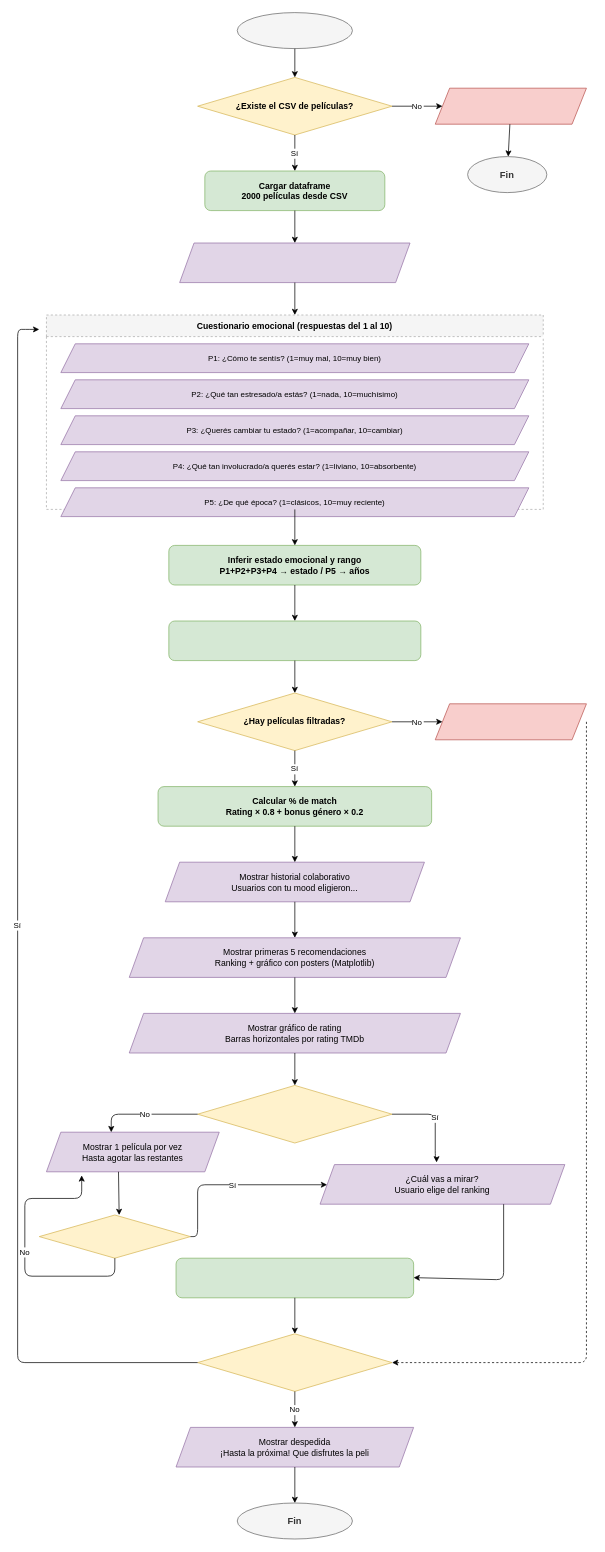
This 605x1552 diagram has some shape labels left out. The box of each missing label's shape, as (x1, y1, x2, y2) in pixels:
Filtrar dataframe Por género del estado + rango de años: (168, 620, 421, 661)
Guardar en historial colaborativo estado + rango + título → CSV: (175, 1257, 414, 1298)
Inicio: (237, 12, 352, 49)
Mostrar bienvenida ¡Bienvenida/o a CineMood!: (179, 242, 410, 283)
Mostrar error Ejecutá primero df_api.py: (435, 87, 586, 124)
Sin resultados Probá con otros valores: (435, 703, 586, 740)
¿Le interesa alguna de las 5?: (197, 1085, 392, 1143)
¿Le interesa esta película?: (39, 1214, 190, 1258)
¿Otra búsqueda?: (197, 1333, 392, 1391)
